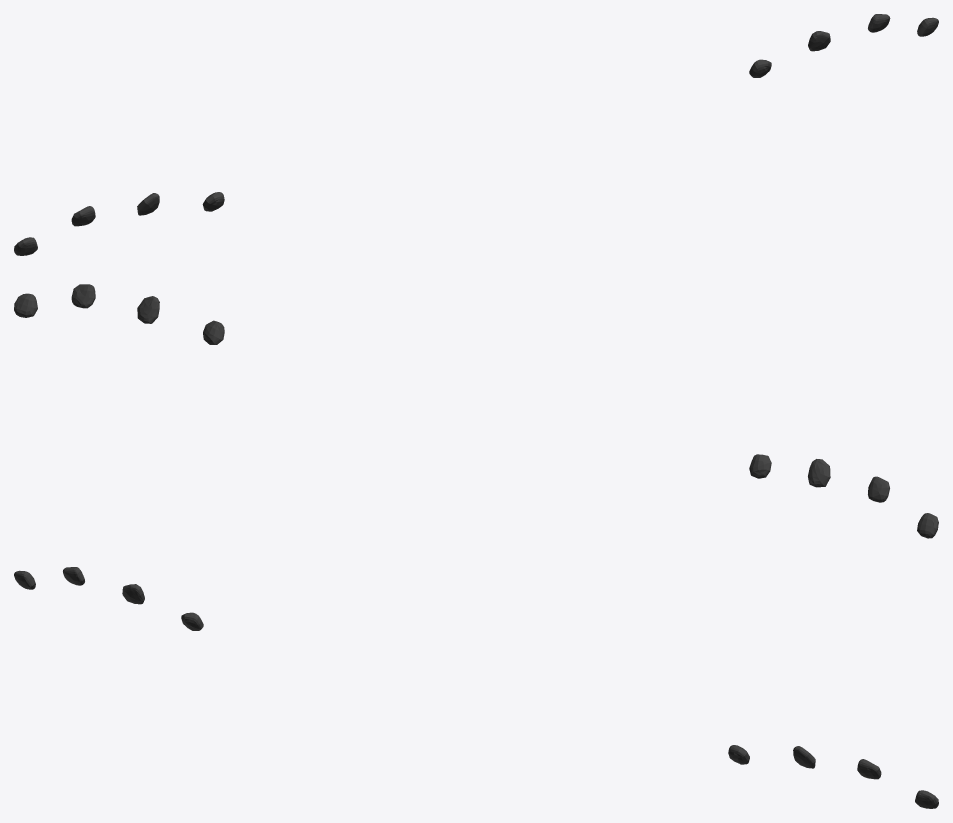
File: FL_sesamoids_dorsal_1.glb
3 views of the same model, one above another, from view 1: azimuth 30°, elevation 25°; view 2: azimuth 150°, elevation 25°; view 3: azimuth 330°, elevation 25° (orthographic).
Visible parts, largest first — view 1: FL_sesamoids_dorsal_1; view 2: FL_sesamoids_dorsal_1; view 3: FL_sesamoids_dorsal_1.
Part boxes in pixels (x1,y1,x2,y2): FL_sesamoids_dorsal_1: (14, 14, 938, 255); FL_sesamoids_dorsal_1: (14, 284, 938, 538); FL_sesamoids_dorsal_1: (14, 567, 938, 808).
Size of the model in its own units: 0.00427 by 0.000181 by 0.000155.
Materials: 1 (1 with a texture image).
